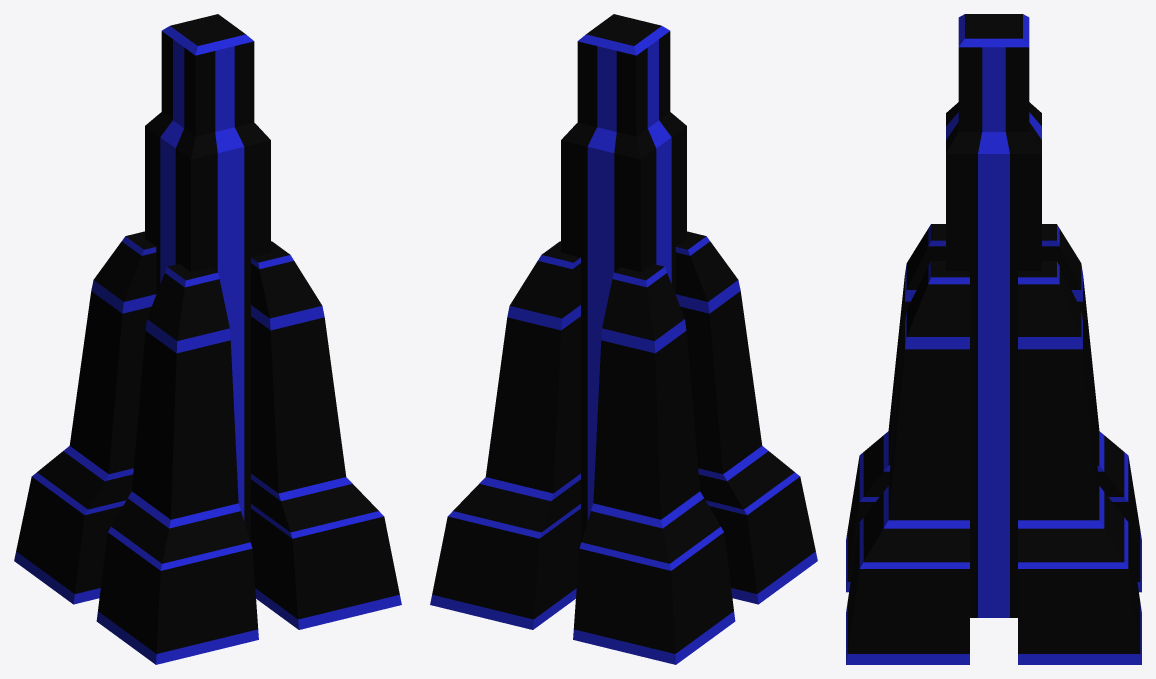
3 views of the same model, side by side, from view 1: azimuth 30°, elevation 25°; view 2: azimuth 150°, elevation 25°; view 3: azimuth 270°, elevation 25° (orthographic). The views are drawn at different scales.
Visible parts, largest first — view 1: Cube; view 2: Cube; view 3: Cube.
Part boxes in pixels (x1=…): Cube: x1=14, y1=14, x2=401, y2=664; Cube: x1=430, y1=14, x2=817, y2=664; Cube: x1=846, y1=14, x2=1141, y2=664.
Bounding box in the file's own units: 615 × 1321 × 615.
